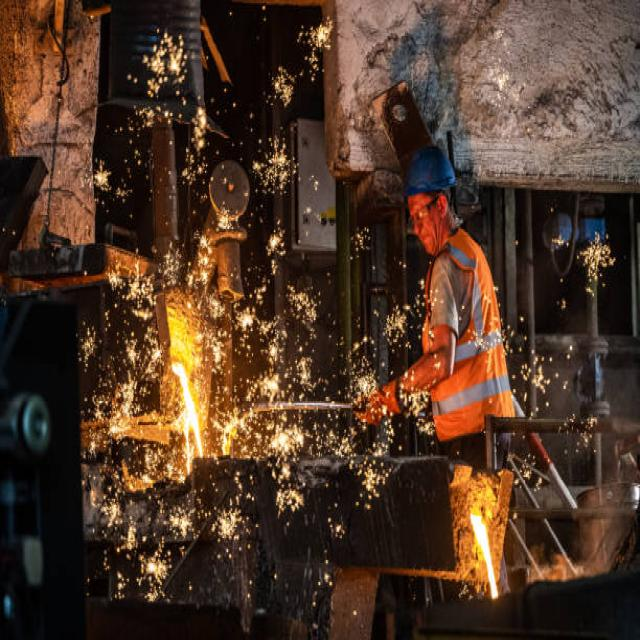Gloves: (344, 368, 408, 445)
Vest: (421, 229, 516, 445)
person: (357, 145, 520, 595)
